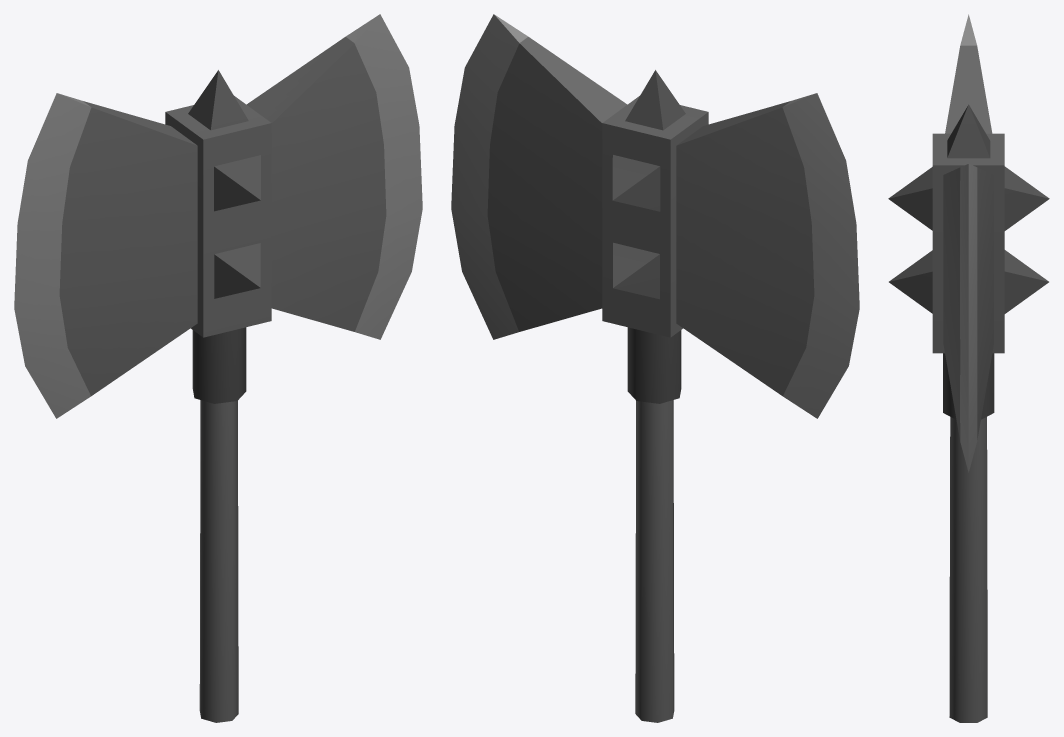
File: Axe.fbx
3 renders of one model, left to right at view 1: azimuth 30°, elevation 25°; view 2: azimuth 150°, elevation 25°; view 3: azimuth 270°, elevation 25°, orthographic. The views are drawn at different scales.
Parts seen in each view (by area): view 1: Axe; view 2: Axe; view 3: Axe.
Part boxes in pixels (x1,y1,x2,y2): Axe: (14,14,422,722); Axe: (451,14,859,722); Axe: (888,14,1049,722).
Size of the model in its own units: 65.72 by 102 by 23.76.
1 material, 1 textured.
